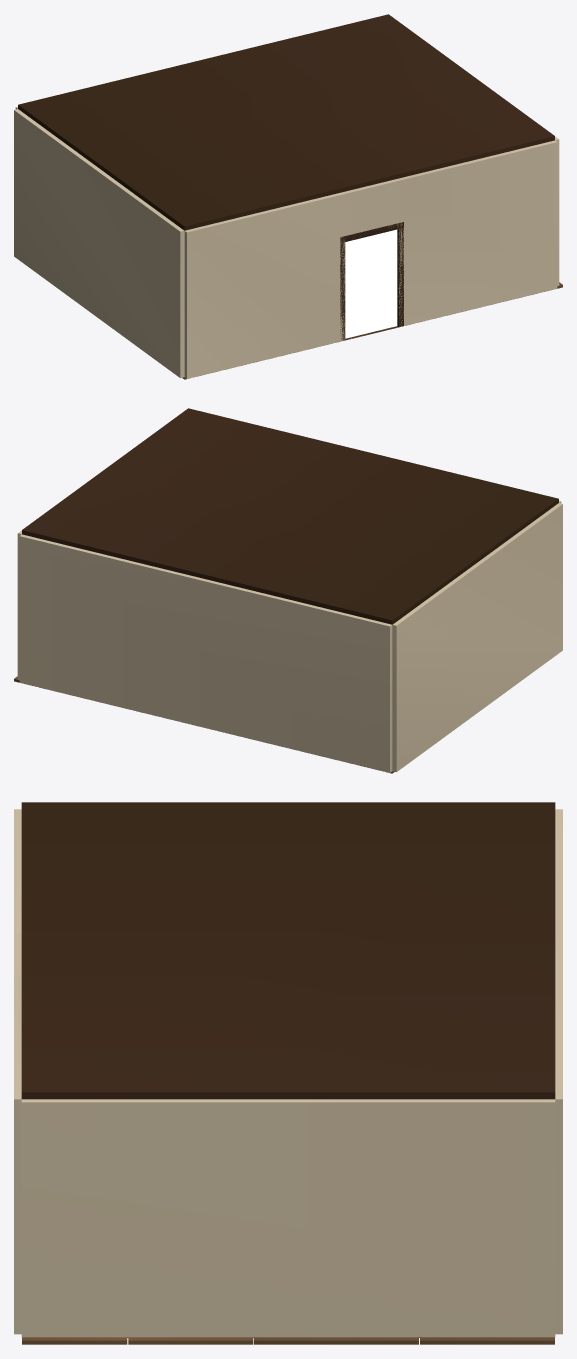
Rendered from room_shop.glb.
3 renders of one model, top to bottom at view 1: azimuth 30°, elevation 25°; view 2: azimuth 150°, elevation 25°; view 3: azimuth 270°, elevation 25°, orthographic. The views are drawn at different scales.
Parts seen in each view (by area): view 1: room_shop; view 2: room_shop; view 3: room_shop.
Boxes of the visible parts, x1=… form: room_shop: x1=14, y1=14, x2=562, y2=379; room_shop: x1=14, y1=408, x2=562, y2=773; room_shop: x1=14, y1=802, x2=562, y2=1344.
Size of the model in its own units: 9.3 by 3.56 by 7.2.
